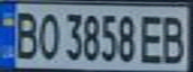3: (60, 9, 84, 62)
5: (100, 10, 121, 63)
8: (78, 9, 103, 62), (115, 11, 139, 63)
B: (9, 7, 42, 61), (157, 11, 190, 65)
E: (136, 11, 166, 64)
O: (33, 8, 60, 61)
